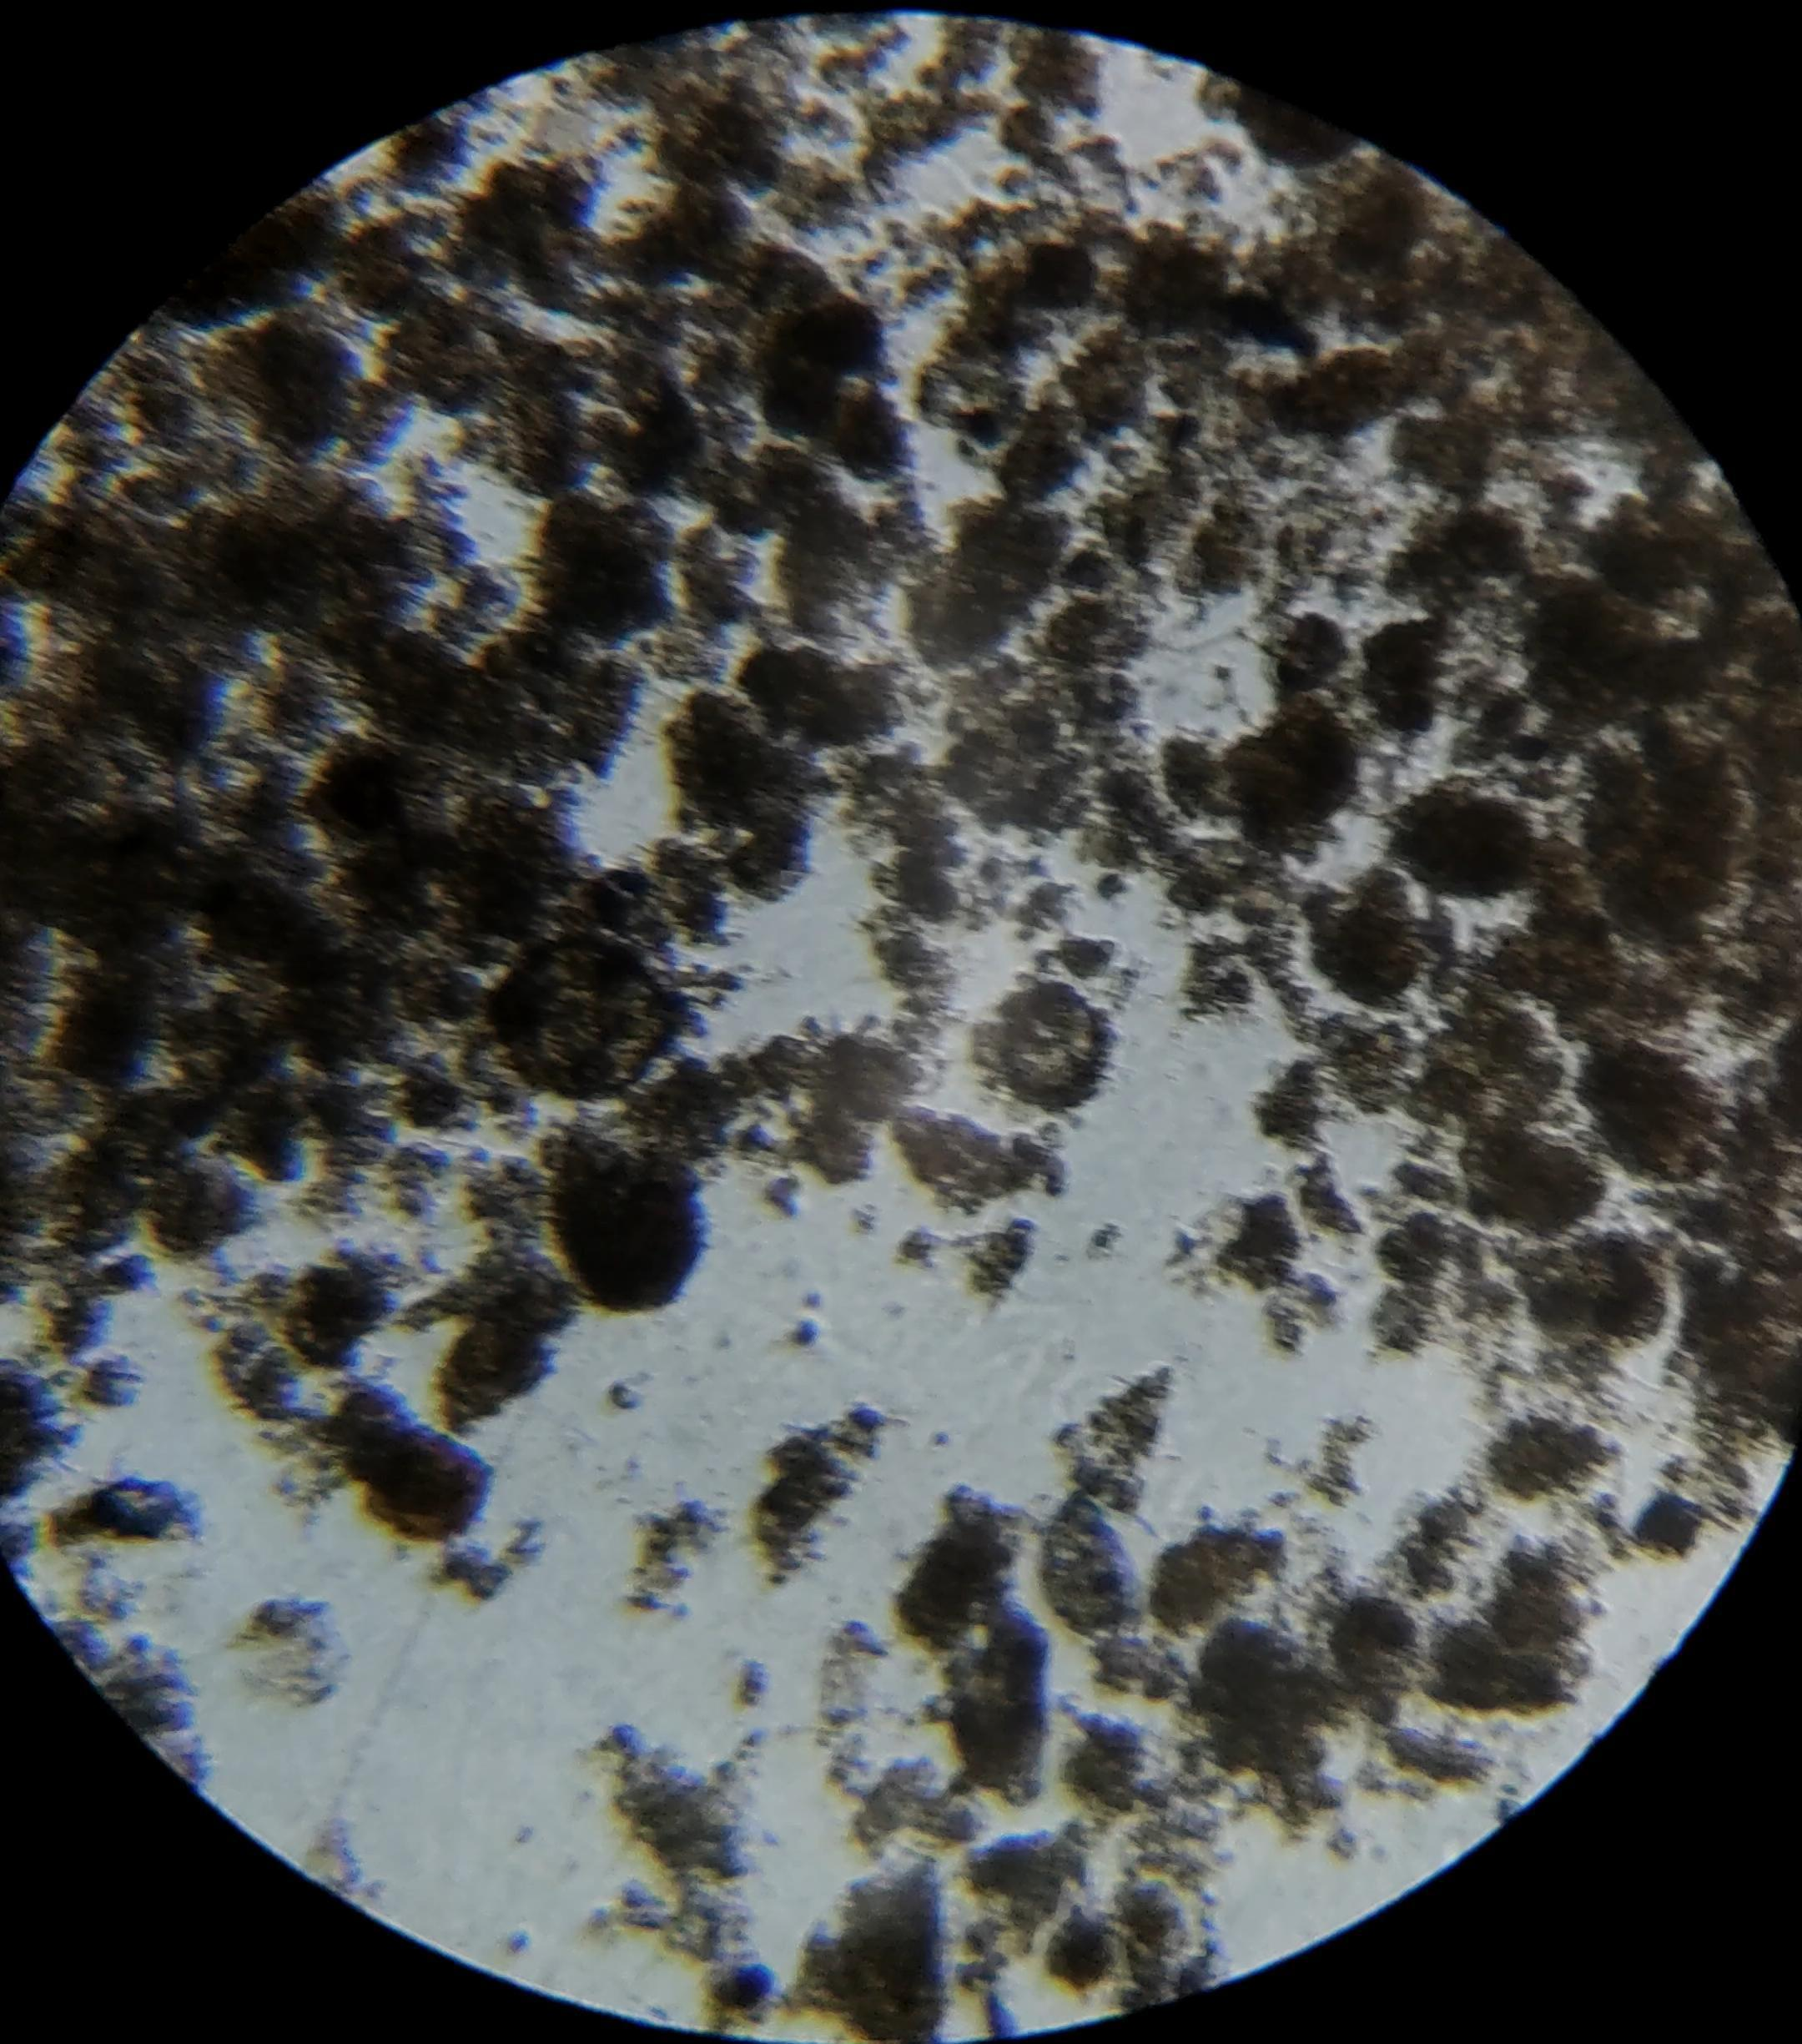Arcella: (511, 938, 666, 1094)
Mo: (1045, 1487, 1162, 1651)
